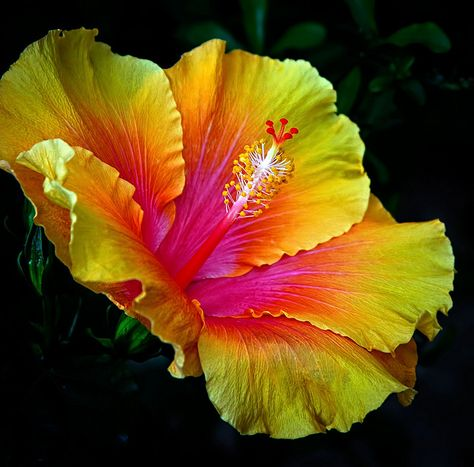Hibiscus: (14, 10, 457, 437)
